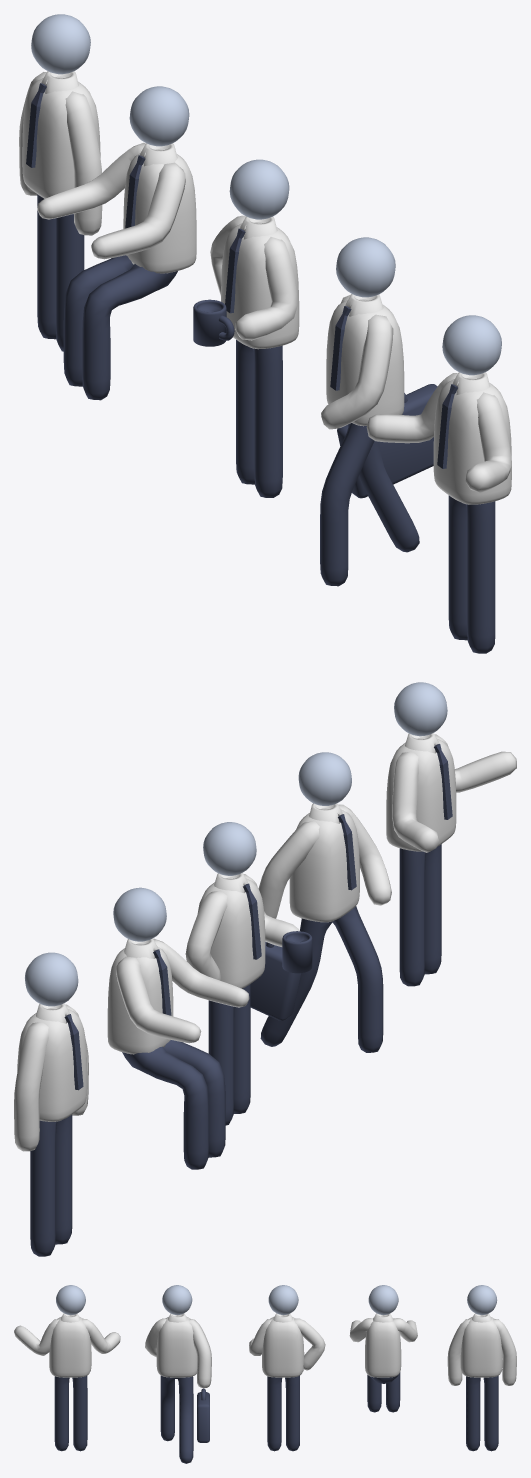
File: Workers.fbx
3 views of the same model, one above another, from view 1: azimuth 30°, elevation 25°; view 2: azimuth 150°, elevation 25°; view 3: azimuth 270°, elevation 25° (orthographic). The views are drawn at different scales.
Visible parts, largest first — view 1: Worker 2, Sphere.004, Worker 5, Sphere.003, Worker 1; view 2: Sphere.004, Worker 2, Worker 5, Worker 1, Sphere.003; view 3: Sphere.004, Worker 1, Worker 5, Sphere.003, Worker 2.
Boxes of the visible parts, bbox=[...] form: Worker 2: bbox=[37, 86, 196, 400]; Sphere.004: bbox=[320, 237, 437, 586]; Worker 5: bbox=[366, 315, 511, 653]; Sphere.003: bbox=[193, 159, 299, 497]; Worker 1: bbox=[19, 14, 102, 351]; Sphere.004: bbox=[250, 752, 391, 1052]; Worker 2: bbox=[107, 887, 249, 1169]; Worker 5: bbox=[386, 682, 516, 986]; Worker 1: bbox=[14, 952, 88, 1256]; Sphere.003: bbox=[185, 822, 312, 1125]; Sphere.004: bbox=[145, 1285, 211, 1463]; Worker 1: bbox=[447, 1285, 516, 1451]; Worker 5: bbox=[14, 1285, 120, 1451]; Sphere.003: bbox=[249, 1285, 325, 1451]; Worker 2: bbox=[349, 1285, 417, 1412].
Bounding box in the file's own units: 103 × 157 × 435.
